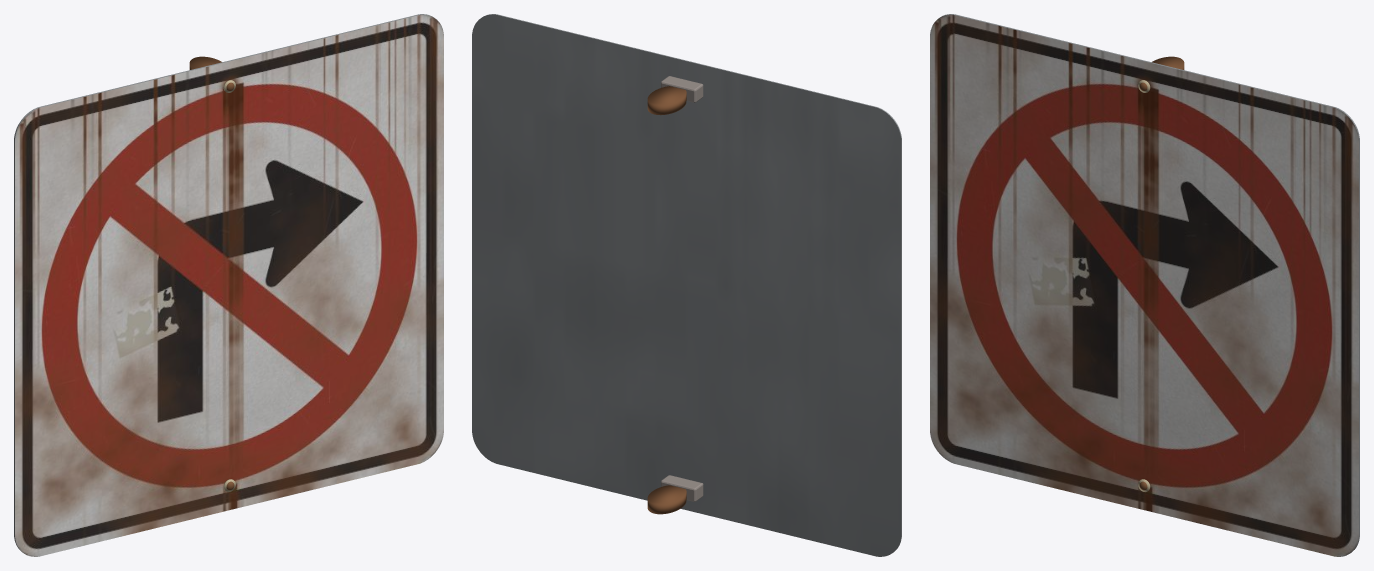
Rendered from noRightTurn-v1-rusty.glb.
3 views of the same model, side by side, from view 1: azimuth 30°, elevation 25°; view 2: azimuth 150°, elevation 25°; view 3: azimuth 330°, elevation 25° (orthographic).
Parts seen in each view (by area): view 1: noRightTurn-v1-rusty; view 2: noRightTurn-v1-rusty; view 3: noRightTurn-v1-rusty.
Boxes of the visible parts, box(x1,y1,x2,y2) form: noRightTurn-v1-rusty: box(14, 14, 443, 556); noRightTurn-v1-rusty: box(472, 14, 901, 556); noRightTurn-v1-rusty: box(930, 14, 1359, 556).
Bounding box in the file's own units: 0.6096 × 0.6096 × 0.0871.
Materials: 1 (1 with a texture image).
